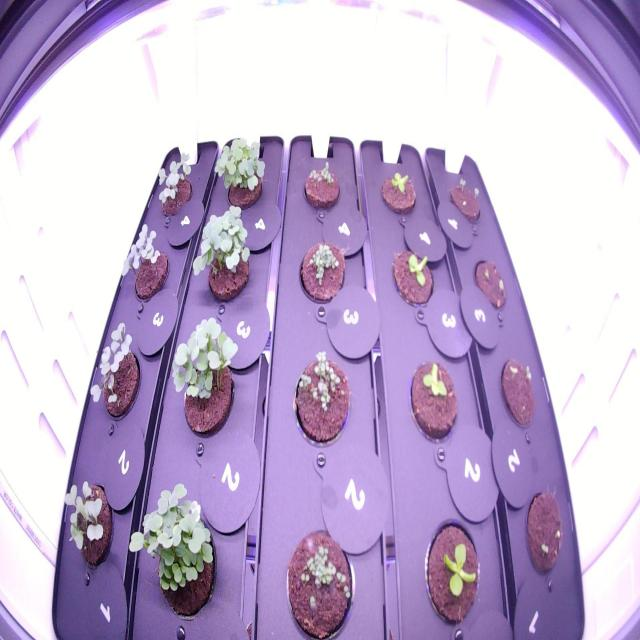germination: (126, 470, 220, 625), (169, 305, 241, 450), (278, 521, 358, 638), (188, 198, 254, 306), (288, 342, 352, 448), (84, 318, 144, 426), (60, 471, 117, 575), (116, 214, 173, 304), (210, 133, 269, 214), (521, 480, 566, 578), (296, 232, 348, 314), (147, 145, 200, 225), (494, 350, 538, 436), (468, 247, 510, 323), (299, 157, 343, 212), (444, 170, 485, 226)
young: (416, 512, 484, 629), (404, 355, 461, 450), (386, 244, 436, 311), (376, 165, 422, 219)
